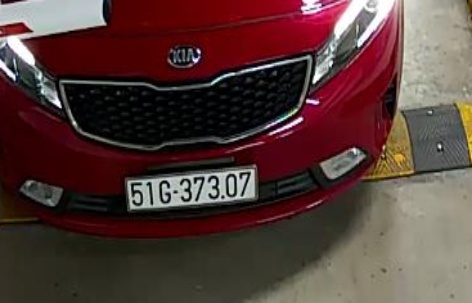plate: (124, 167, 263, 209)
